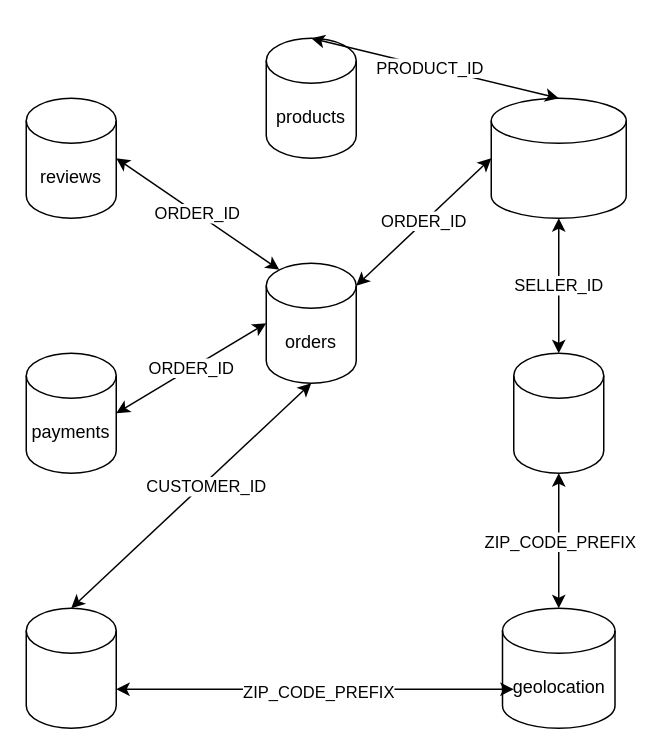
The diagram is 662 pixels wide and 755 high, and some of its shapes have lost their labels. The shapes that lost their labels are listed below. From the top down, each one's centre as x and y in pixels, then its label:
At [558,157]: "orders_items".
At [558,412]: "sellers".
At [70,667]: "customer".
